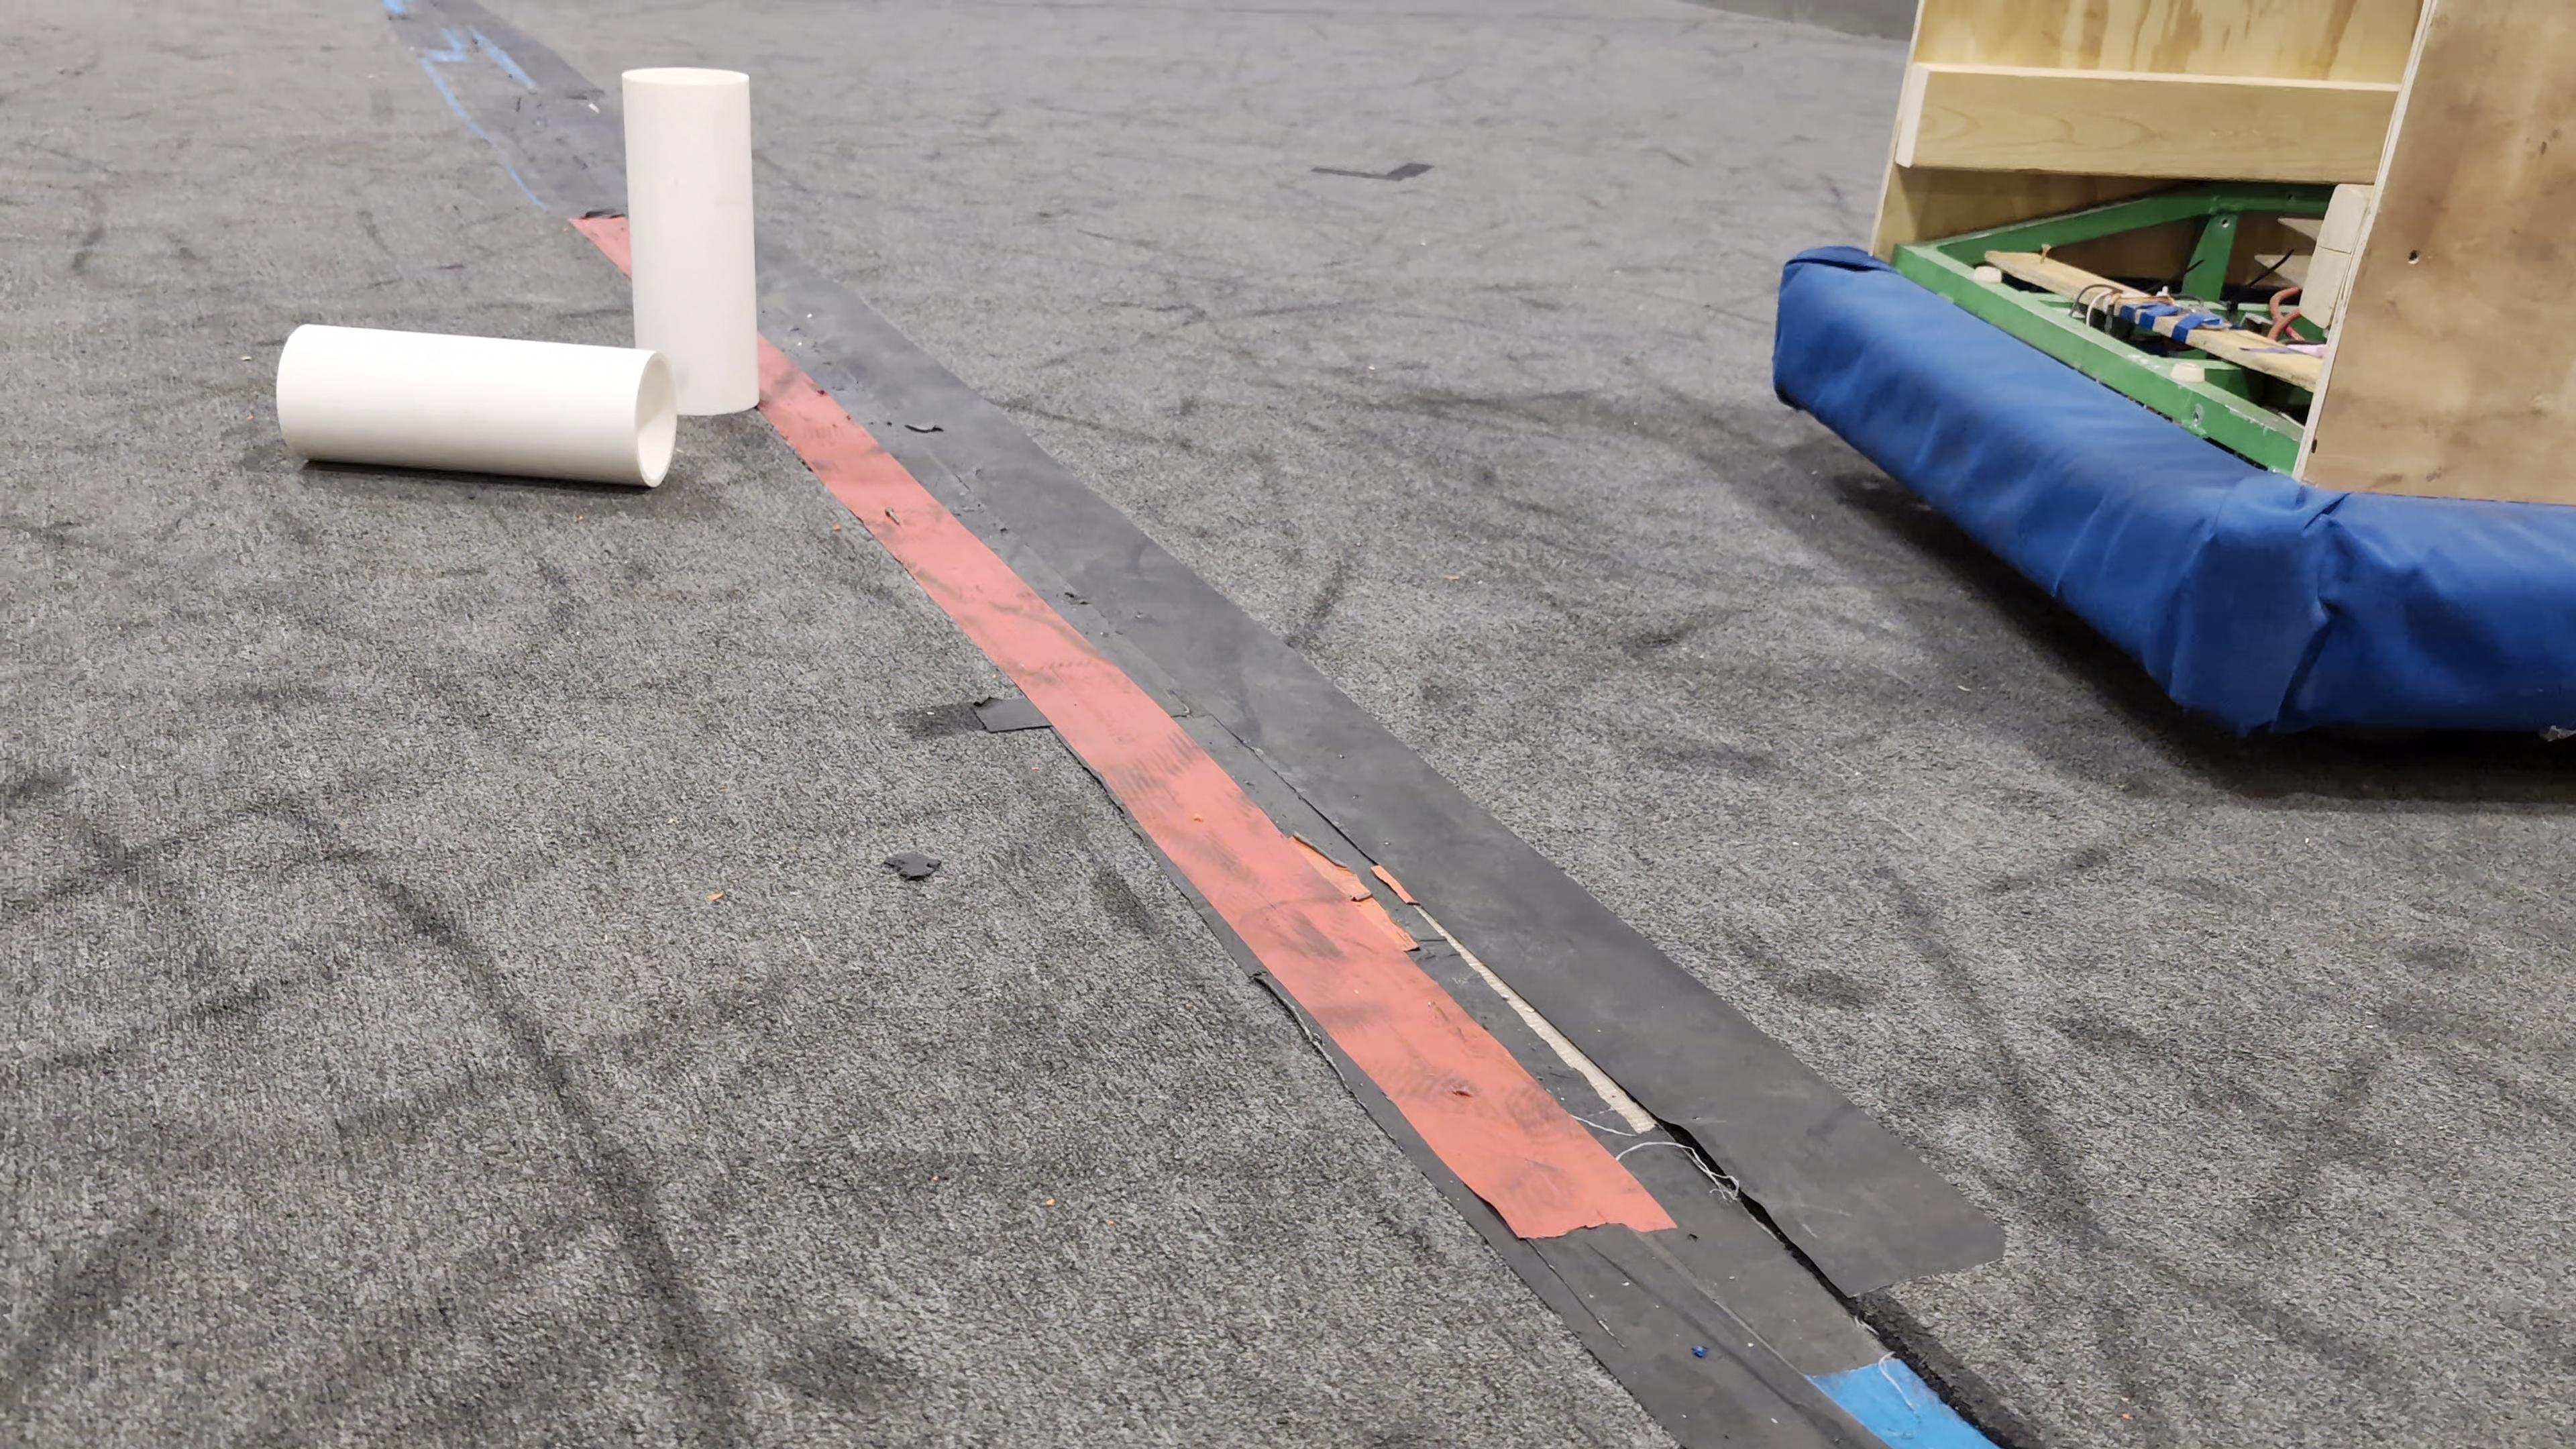coral: (274, 320, 676, 490), (625, 65, 761, 414)
